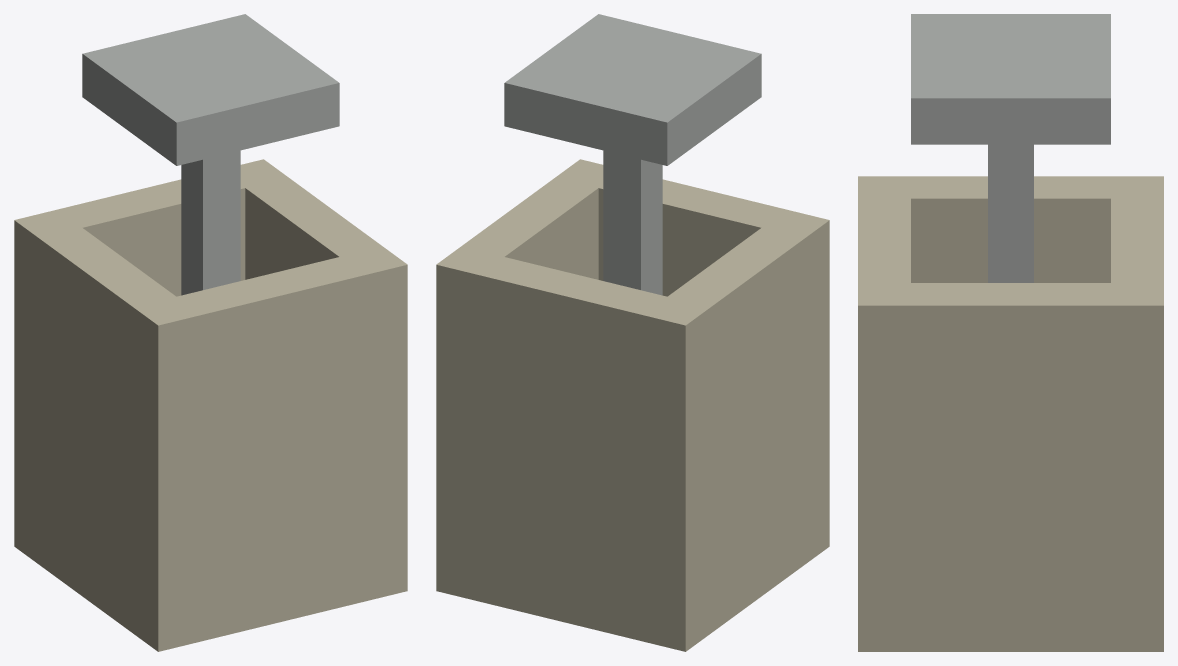
Rendered from lamp_square_ceiling.glb.
3 renders of one model, left to right at view 1: azimuth 30°, elevation 25°; view 2: azimuth 150°, elevation 25°; view 3: azimuth 270°, elevation 25°, orthographic. The views are drawn at different scales.
Parts seen in each view (by area): view 1: lamp_square_ceiling; view 2: lamp_square_ceiling; view 3: lamp_square_ceiling.
Boxes of the visible parts, <box> form: lamp_square_ceiling: <box>14,14,407,651</box>; lamp_square_ceiling: <box>436,14,829,651</box>; lamp_square_ceiling: <box>858,14,1163,651</box>.
Size of the model in its own units: 0.0835 by 0.16 by 0.0835.
